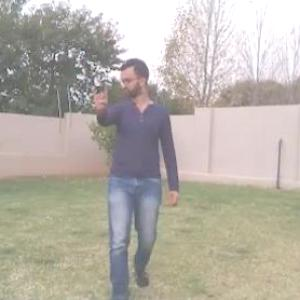takeoff-hand: (84, 71, 111, 117)
